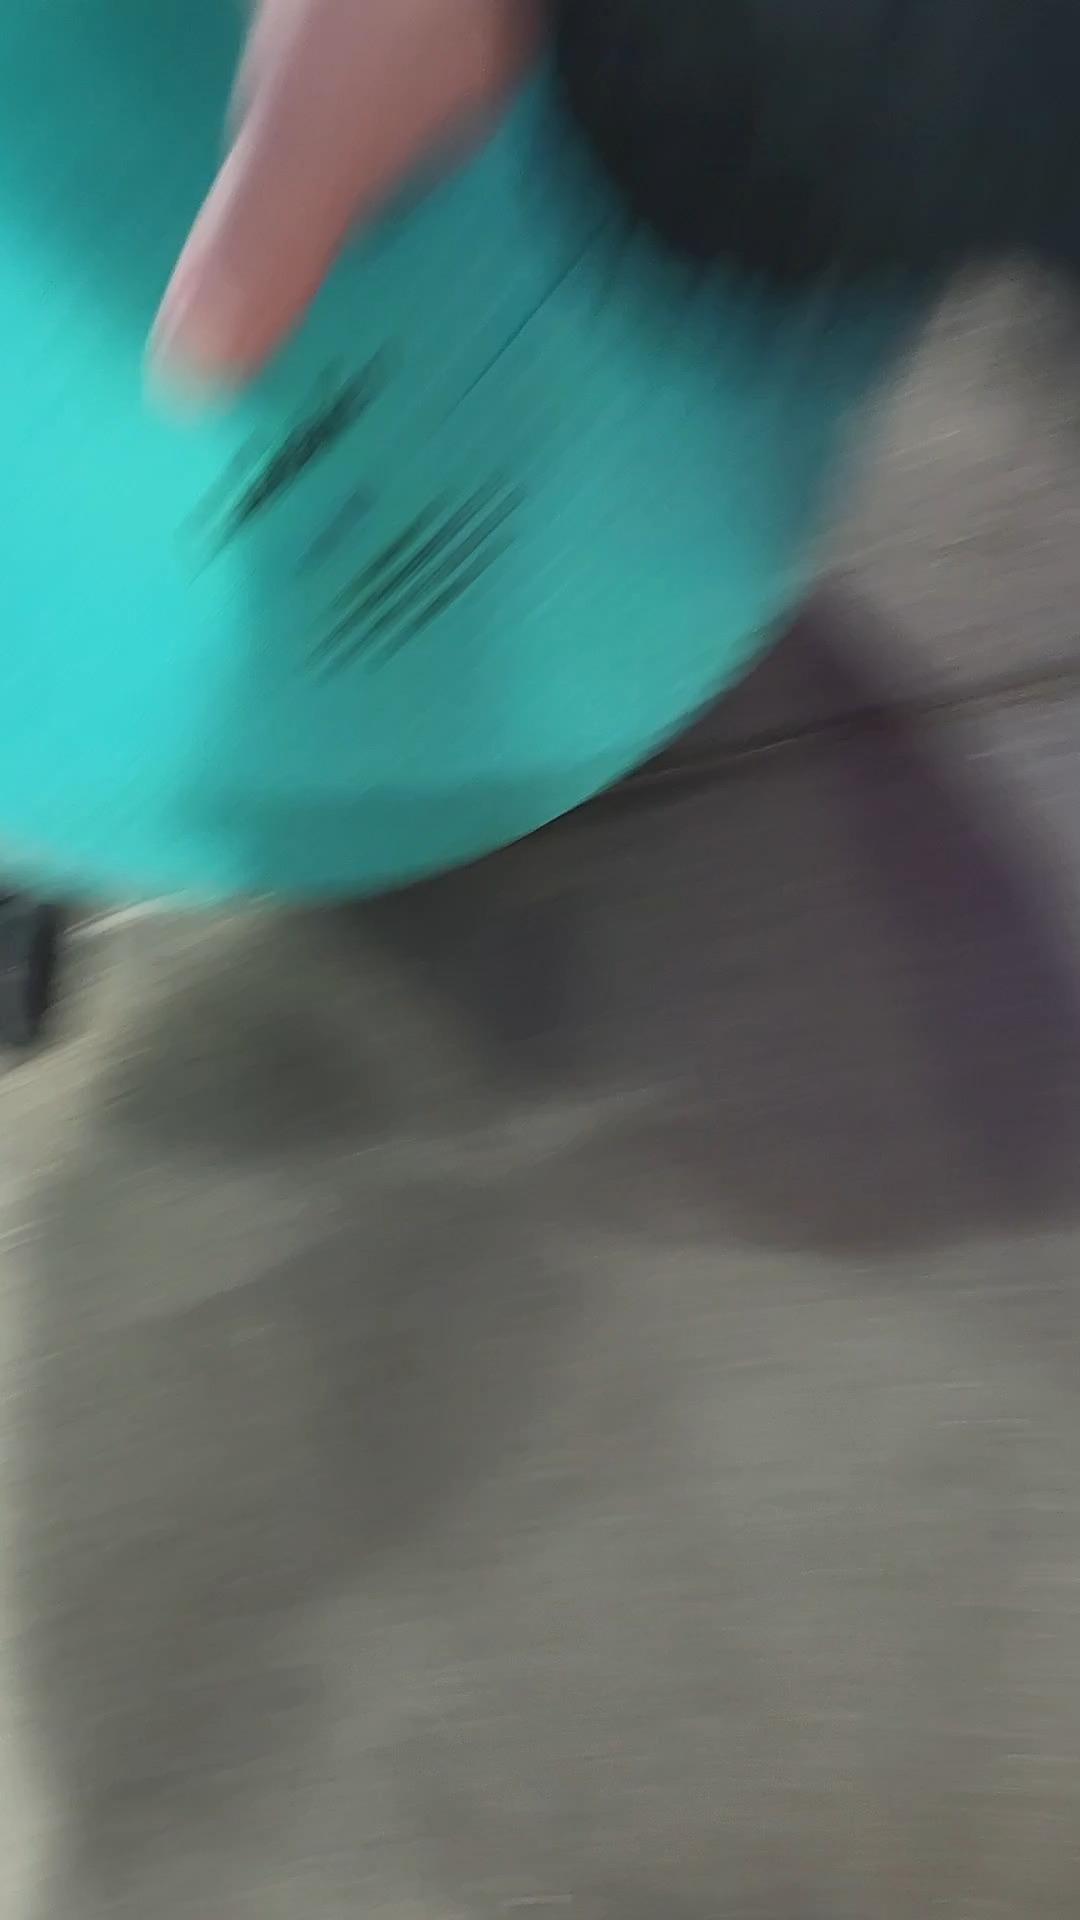algae: (0, 0, 923, 911)
